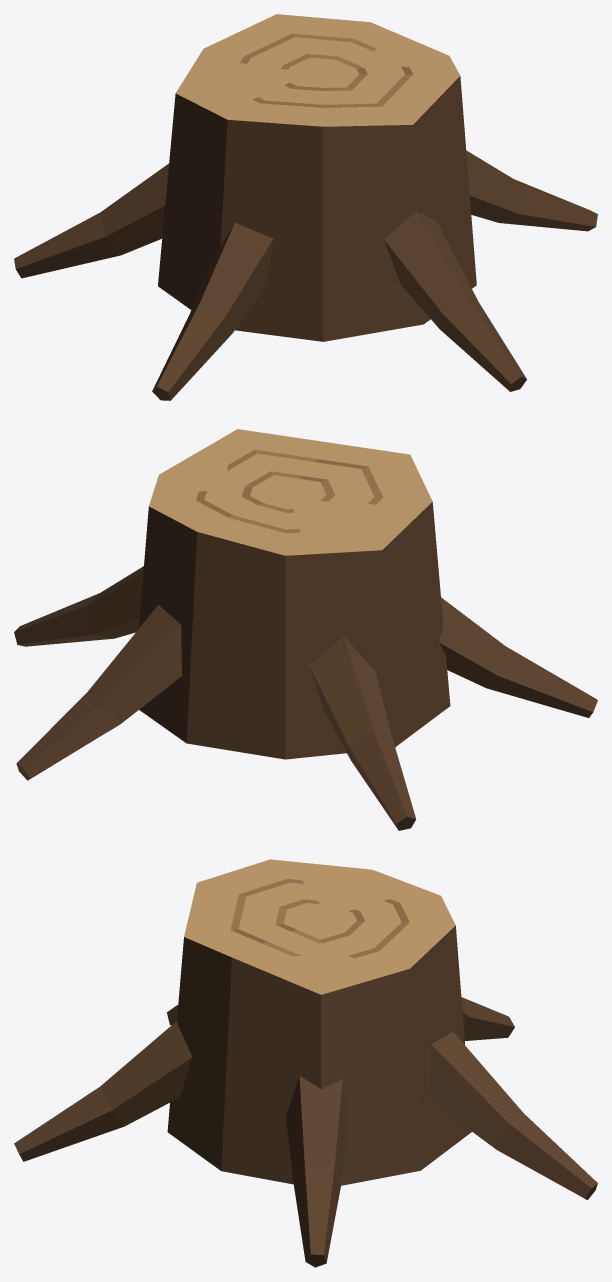
The model's file is stump_idle.glb.
The picture shows the model from 3 angles, top to bottom: view 1: azimuth 30°, elevation 25°; view 2: azimuth 150°, elevation 25°; view 3: azimuth 270°, elevation 25°; orthographic projection.
Visible parts, largest first — view 1: stump; view 2: stump; view 3: stump.
Boxes of the visible parts, x1,y1,x2,y2 form: stump: [14, 14, 597, 400]; stump: [14, 429, 597, 830]; stump: [14, 859, 597, 1267].
Bounding box in the file's own units: 1.05 × 0.45 × 1.05.
